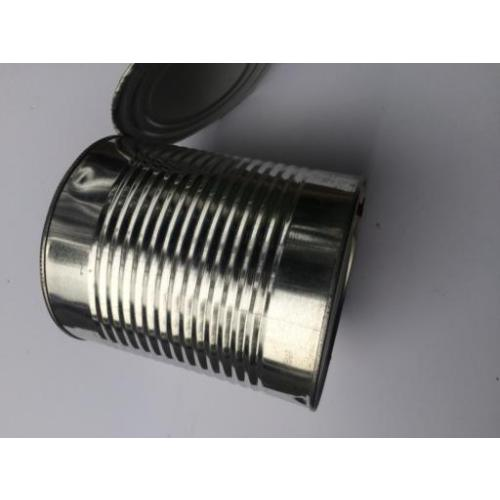metal: (46, 136, 366, 409)
